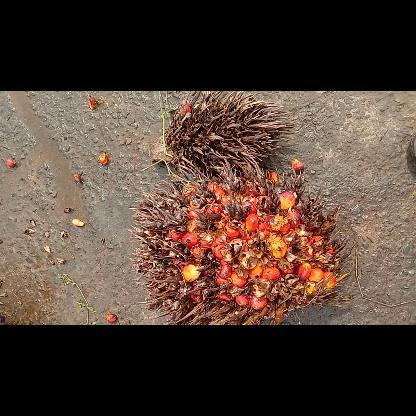Janjang kosong: (148, 90, 294, 174)
Terlalu masak: (130, 160, 354, 324)
